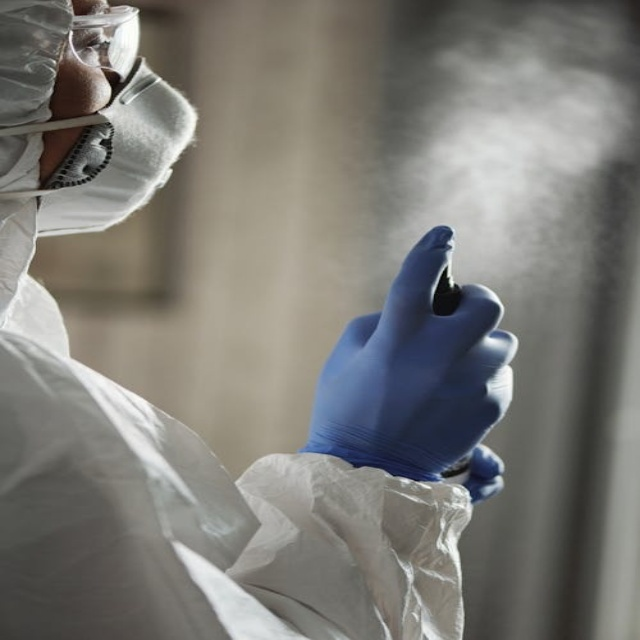Gafas: (52, 1, 152, 85)
Guantes: (305, 220, 525, 504)
Mascara: (23, 54, 227, 241)
